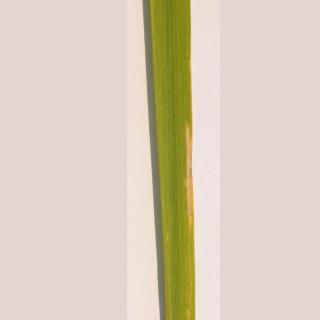Hawar-Daun: (178, 103, 207, 275)
